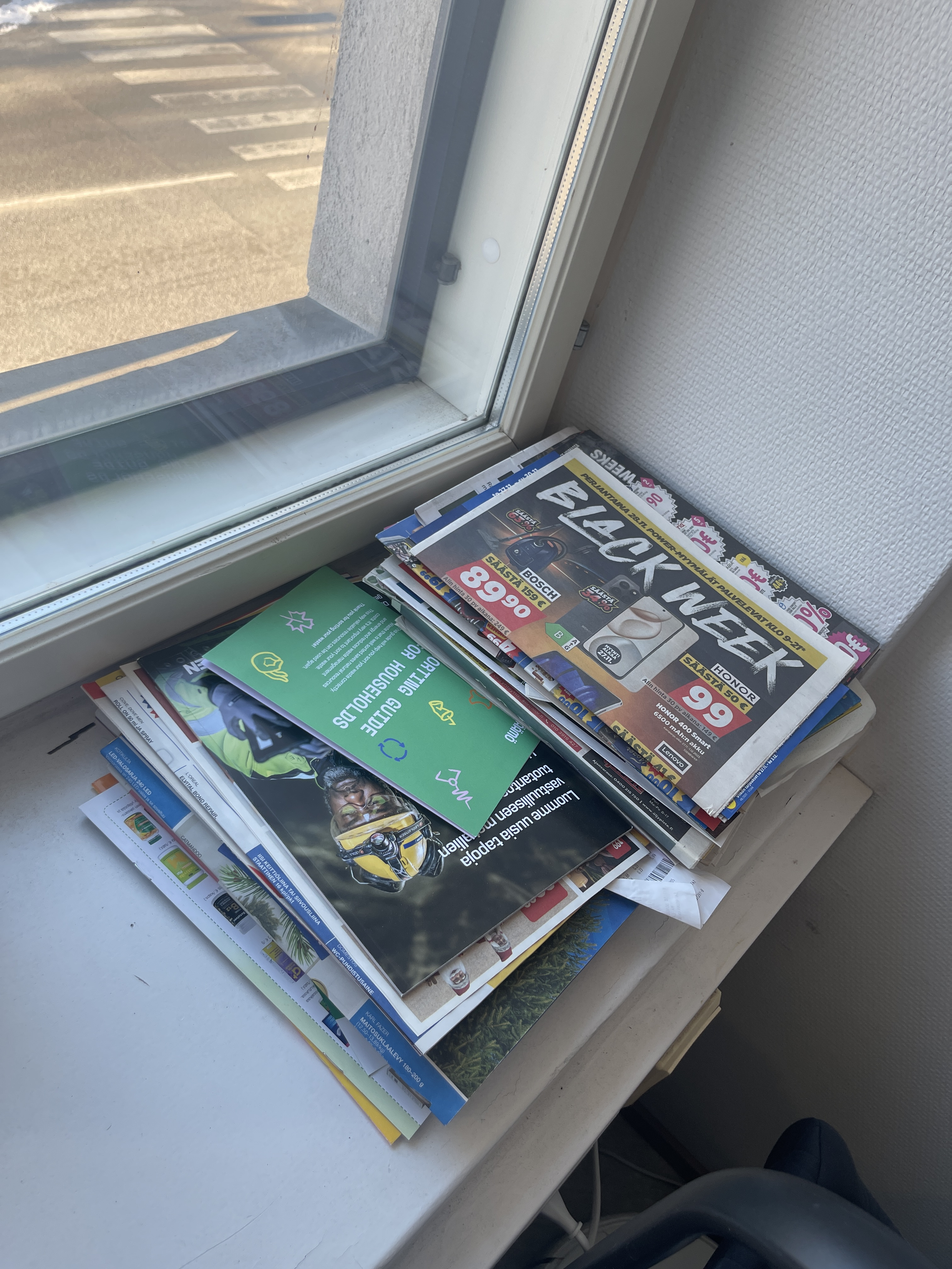paper: (84, 422, 880, 1157)
